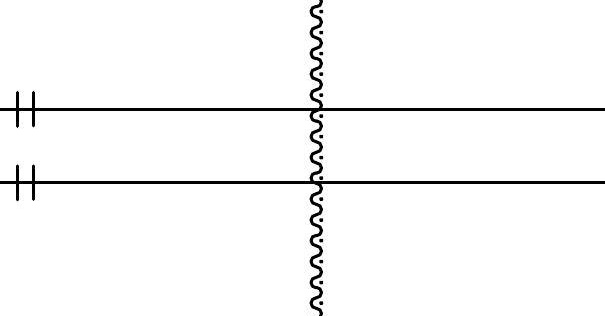115_buffer: (16, 91, 35, 128), (16, 164, 35, 201)
